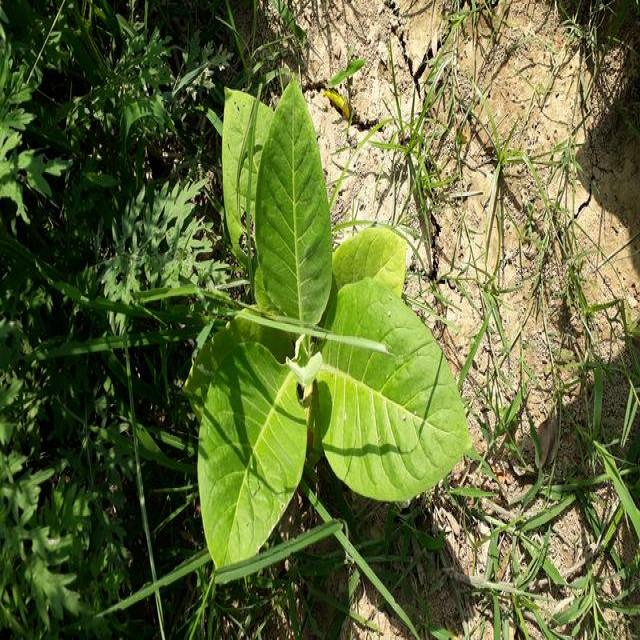crop: (188, 90, 470, 562)
